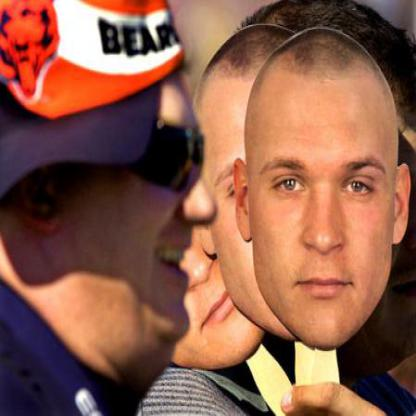face: (59, 8, 226, 361), (249, 27, 399, 352)
